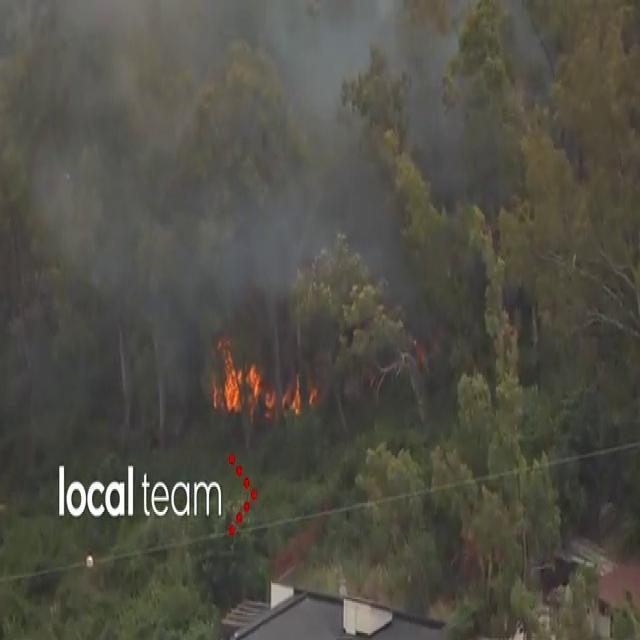Fire: (205, 342, 315, 424)
Smoke: (25, 146, 196, 361), (200, 185, 338, 309), (277, 5, 385, 143), (403, 12, 475, 212), (343, 185, 433, 333), (504, 0, 549, 79)
